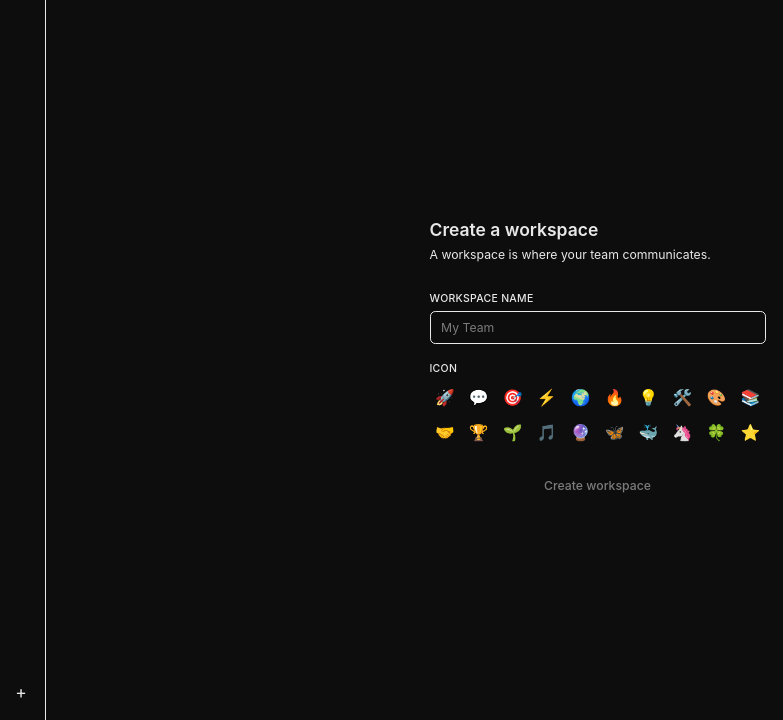
Test: WorkspaceCreatePage (/w/new) › submits the form and navigates to /w/:slug on success
Type "Test Workspace" into the field labelled "Workspace name" at {"x": 598, "y": 328}, box [430,311,766,344]
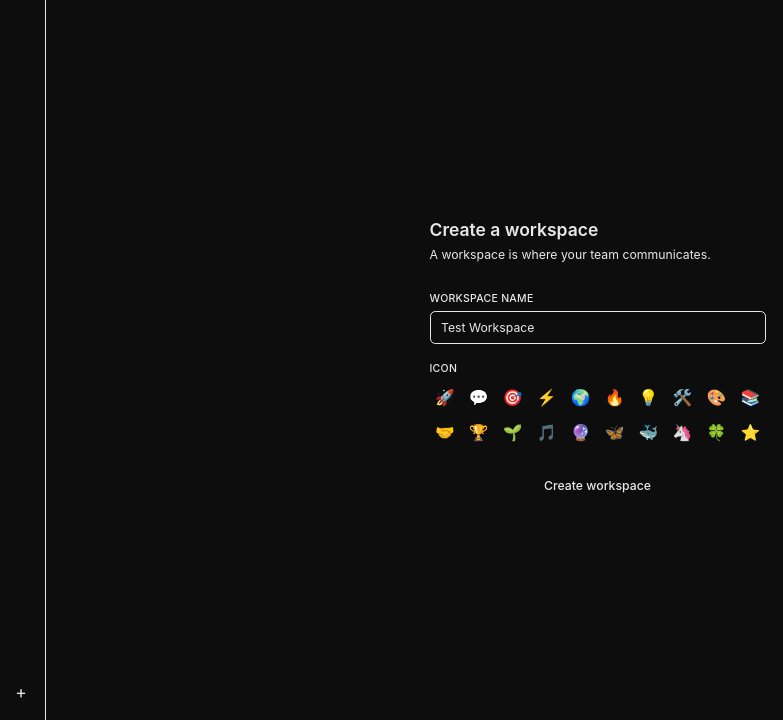
Click the button named "select emoji" at {"x": 445, "y": 399}, box [430,383,460,414]
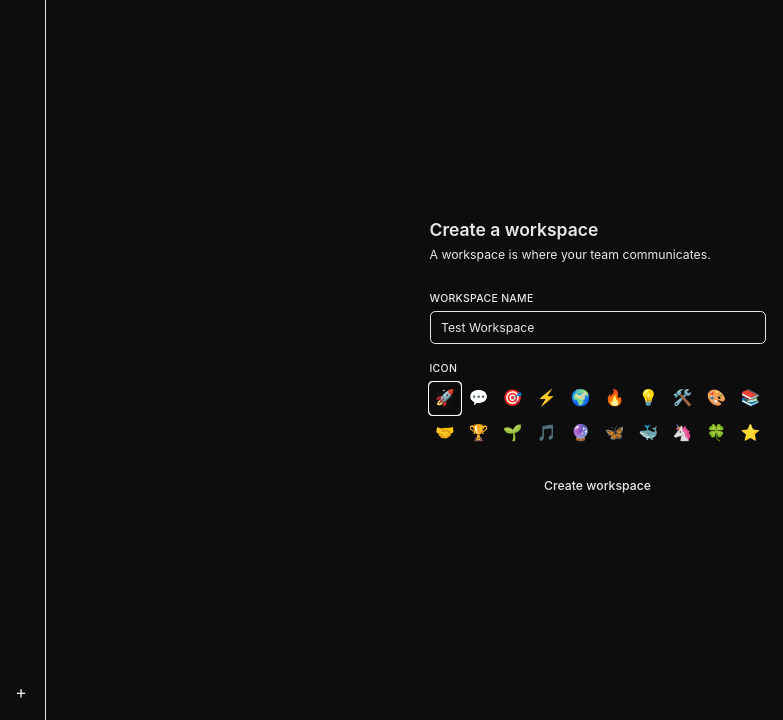
Click the button "Create workspace" at {"x": 598, "y": 486}, box [430,470,766,502]
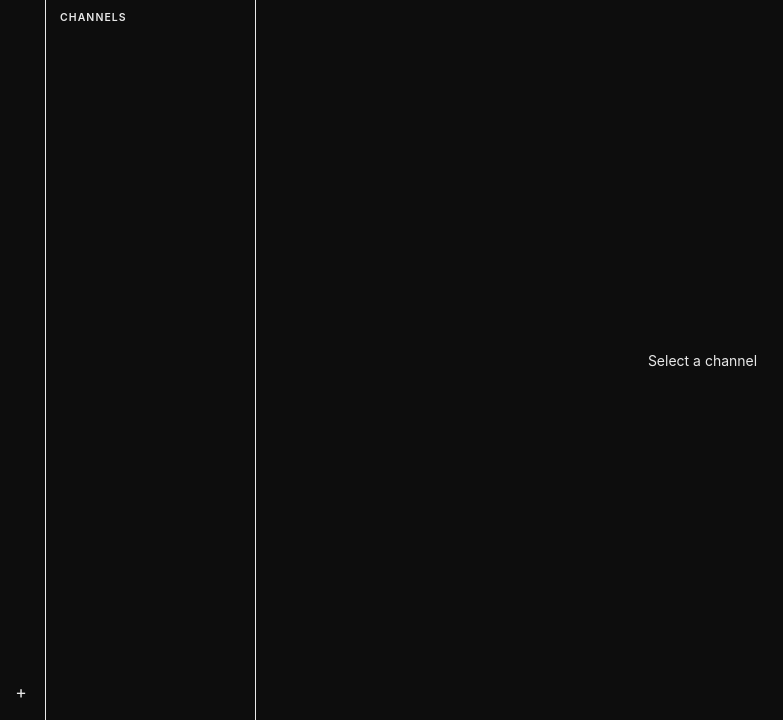
Check: the heading "Create a workspace" is gone
